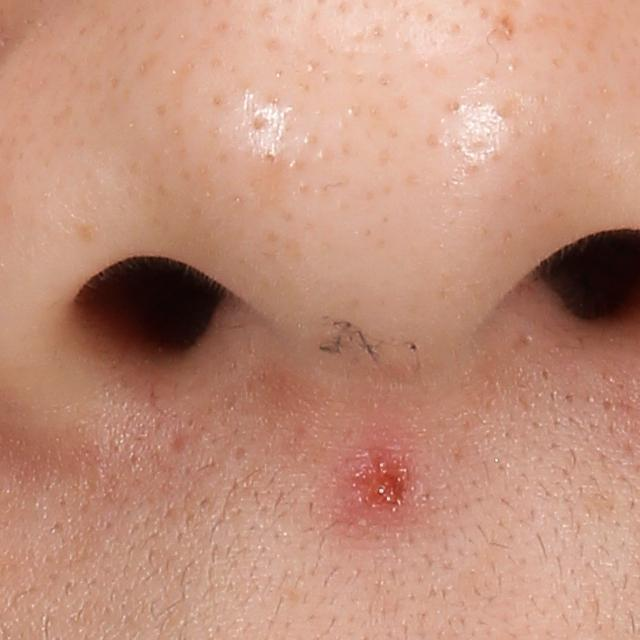atrophic_scar: (167, 426, 196, 457)
comedo: (260, 147, 283, 173)
papule: (357, 459, 412, 514)
